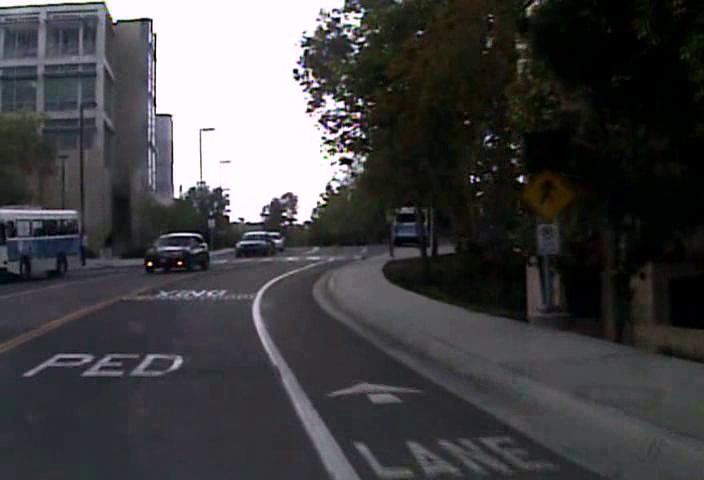pedestrianCrossing: (520, 169, 573, 220)
